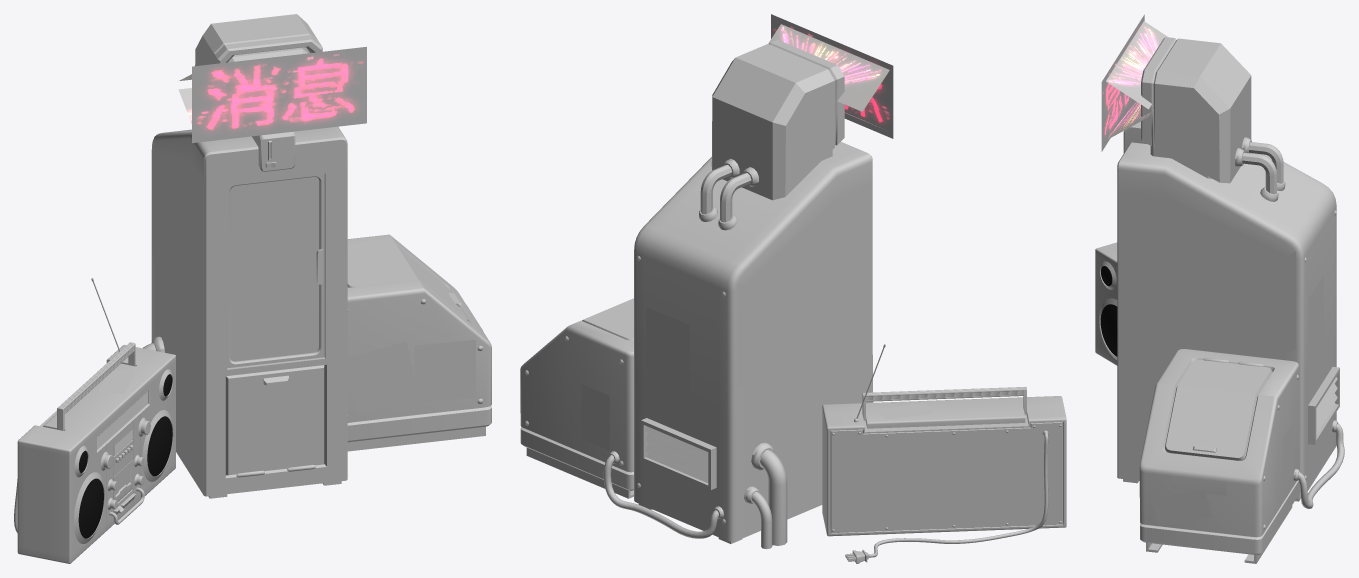
File: KB3D_CPP_PropSetNewspaperDispenser_A.fbx
3 renders of one model, left to right at view 1: azimuth 30°, elevation 25°; view 2: azimuth 150°, elevation 25°; view 3: azimuth 270°, elevation 25°, orthographic. The views are drawn at different scales.
Visible parts, largest first — view 1: KB3D_CPP_PropSetNewspaperDispenser_A_NewspaperStand, KB3D_CPP_PropSetNewspaperDispenser_A_BoomBox; view 2: KB3D_CPP_PropSetNewspaperDispenser_A_NewspaperStand, KB3D_CPP_PropSetNewspaperDispenser_A_BoomBox; view 3: KB3D_CPP_PropSetNewspaperDispenser_A_NewspaperStand, KB3D_CPP_PropSetNewspaperDispenser_A_BoomBox.
Boxes of the visible parts, <box> form: KB3D_CPP_PropSetNewspaperDispenser_A_NewspaperStand: <box>143,14,491,498</box>; KB3D_CPP_PropSetNewspaperDispenser_A_BoomBox: <box>14,278,175,563</box>; KB3D_CPP_PropSetNewspaperDispenser_A_NewspaperStand: <box>520,14,893,549</box>; KB3D_CPP_PropSetNewspaperDispenser_A_BoomBox: <box>822,344,1066,563</box>; KB3D_CPP_PropSetNewspaperDispenser_A_NewspaperStand: <box>1101,14,1344,563</box>; KB3D_CPP_PropSetNewspaperDispenser_A_BoomBox: <box>1095,242,1117,365</box>.
Size of the model in its own units: 148 by 125 by 69.14.
